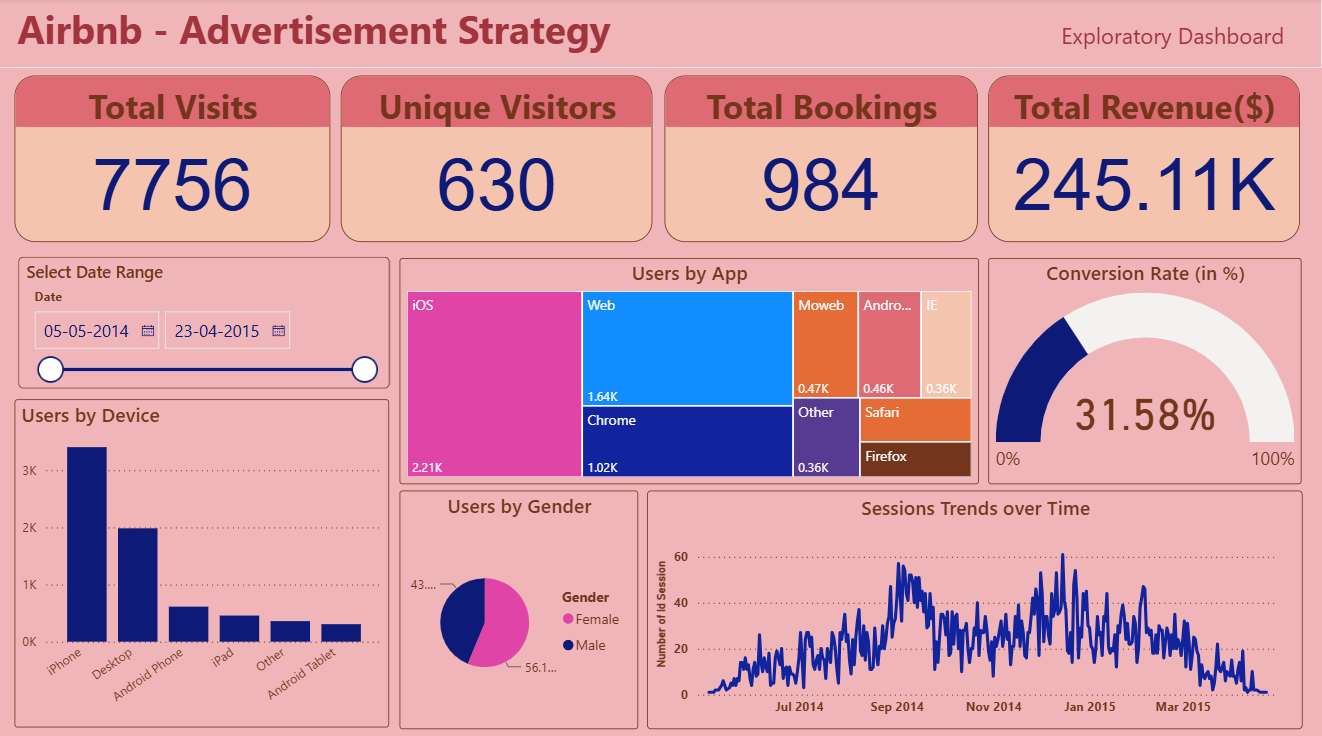

The page's visual inventory and layout, read from the dashboard file:
{"tool":"powerbi","page":{"name":"EDA","canvas":[1280,720],"ordinal":0},"visuals":[{"type":"card","title":"Total Visits","fields":{"Values":["CountNonNull(Search Data.id visitor)"]},"box":[17.1,74.7,304.7,160.5],"z":0},{"type":"columnChart","title":"Users by Device","fields":{"Category":["Search Data.Device"],"Y":["CountNonNull(Search Data.Device)"]},"box":[16.6,386.8,361.9,316.8],"z":1000},{"type":"treemap","title":"Users by App","fields":{"Group":["Search Data.App"],"Values":["CountNonNull(Search Data.App)"]},"box":[388,250.4,558.8,218.3],"z":2000},{"type":"gauge","title":"Conversion Rate (in %)","fields":{"Y":["Search Data.Conversion Rate"]},"box":[956.3,250.4,302.6,218.3],"z":3000},{"type":"pieChart","title":"Users by Gender","fields":{"Category":["Unique Users.Gender"],"Y":["CountNonNull(Unique Users.Gender)"]},"box":[388.6,475.7,230,230],"z":4000},{"type":"slicer","title":"Select Date Range","fields":{"Values":["Search Data.Date"]},"box":[20.2,249.2,358.3,127],"z":5000},{"type":"card","title":"Unique Visitors","fields":{"Values":["Count(Search Data.id visitor)"]},"box":[332.3,74.7,301.2,160.5],"z":6000},{"type":"card","title":"Total Bookings","fields":{"Values":["CountNonNull(Search Data.booking amount)"]},"box":[643.9,74.7,302.3,160.5],"z":7000},{"type":"card","title":"Total Revenue($)","fields":{"Values":["Sum(Search Data.booking amount)"]},"box":[956.7,74.7,301.2,160.5],"z":8000},{"type":"lineChart","title":"Sessions Trends over Time","fields":{"Category":["Dates.Date.Variation.Date Hierarchy.Year","Dates.Date.Variation.Date Hierarchy.Month","Dates.Date.Variation.Date Hierarchy.Day"],"Y":["CountNonNull(Search Data.id session)"]},"box":[627.1,475.7,632.9,230],"z":9000},{"type":"textbox","box":[0,0,1280.2,67.4],"z":10000}]}

Visuals, with their boxes in screenshot pixels (x1, y1, x2, y2), scaled from the page's 1280x720 canvas onto the 1322x736 screenshot:
"Total Visits" card: bbox=[18, 76, 332, 240]
"Users by Device" columnChart: bbox=[17, 395, 391, 719]
"Users by App" treemap: bbox=[401, 256, 978, 479]
"Conversion Rate (in %)" gauge: bbox=[988, 256, 1300, 479]
"Users by Gender" pieChart: bbox=[401, 486, 639, 721]
"Select Date Range" slicer: bbox=[21, 255, 391, 385]
"Unique Visitors" card: bbox=[343, 76, 654, 240]
"Total Bookings" card: bbox=[665, 76, 977, 240]
"Total Revenue($)" card: bbox=[988, 76, 1299, 240]
"Sessions Trends over Time" lineChart: bbox=[648, 486, 1301, 721]
textbox: bbox=[0, 0, 1321, 69]
